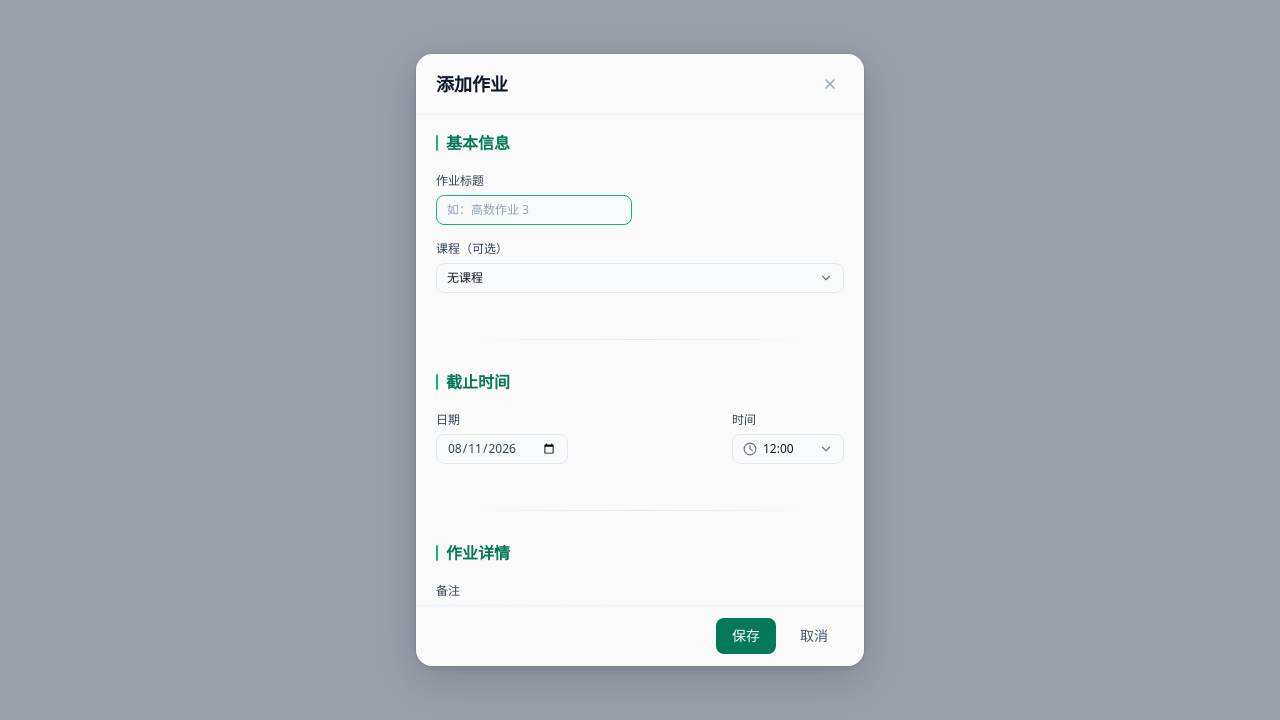
it: HomeworkFormDialog 智能截止 › 选中课程且未手动修改时建议下次上课日 23:59
Click the button named "课程（可选）": (465, 278) top-left (436, 263), bottom-right (844, 293)
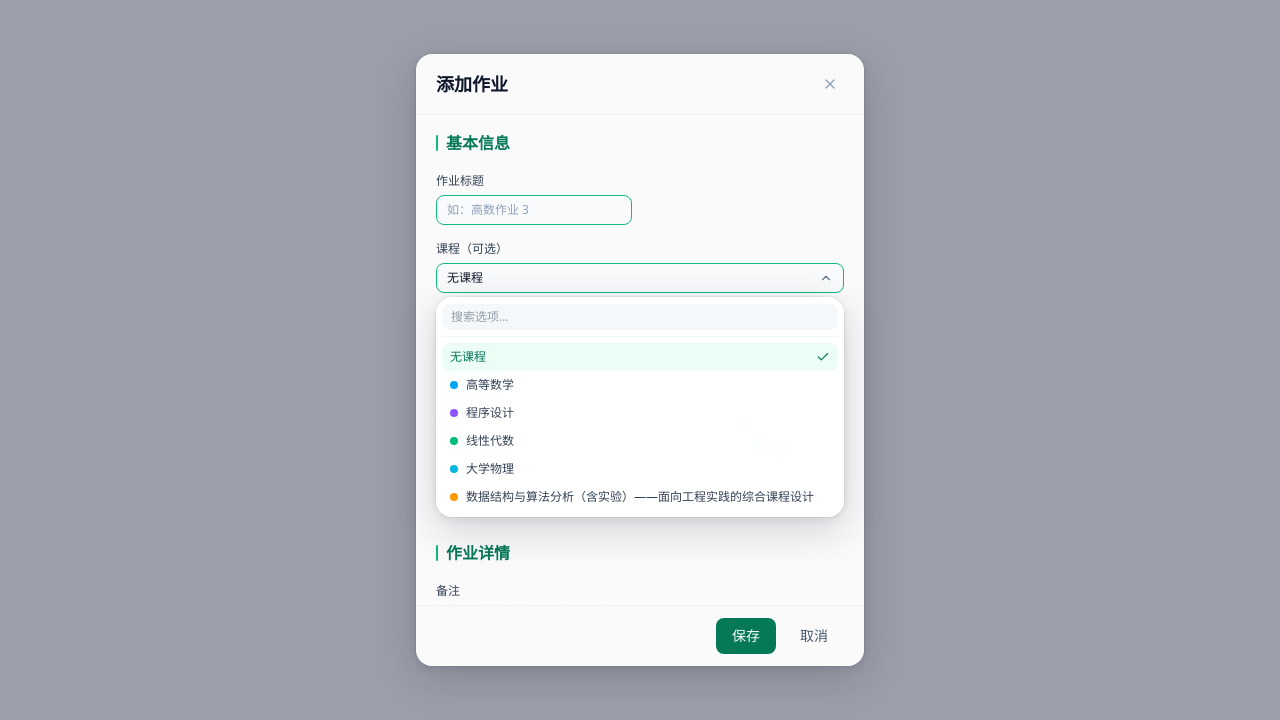
Click the option "高等数学": (490, 384) top-left (442, 371), bottom-right (838, 399)
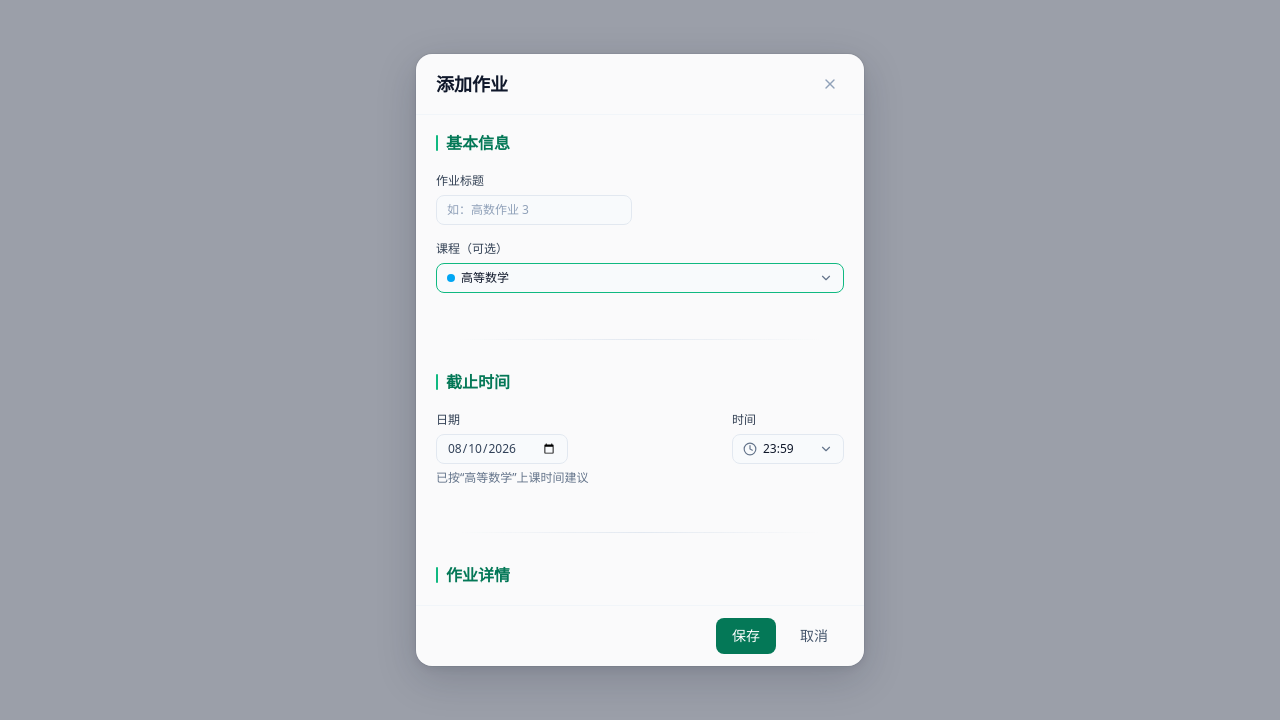
Expected: the date field labelled "日期" holds "2026-08-10"
Expected: the button named "时间" reads "23:59", top-left (732, 434), bottom-right (844, 464)
Expected: the text "已按“高等数学”上课时间建议" is shown, top-left (436, 469), bottom-right (589, 486)
In the date field labelled "日期": (502, 449) top-left (436, 434), bottom-right (568, 464), type "2026-08-20"
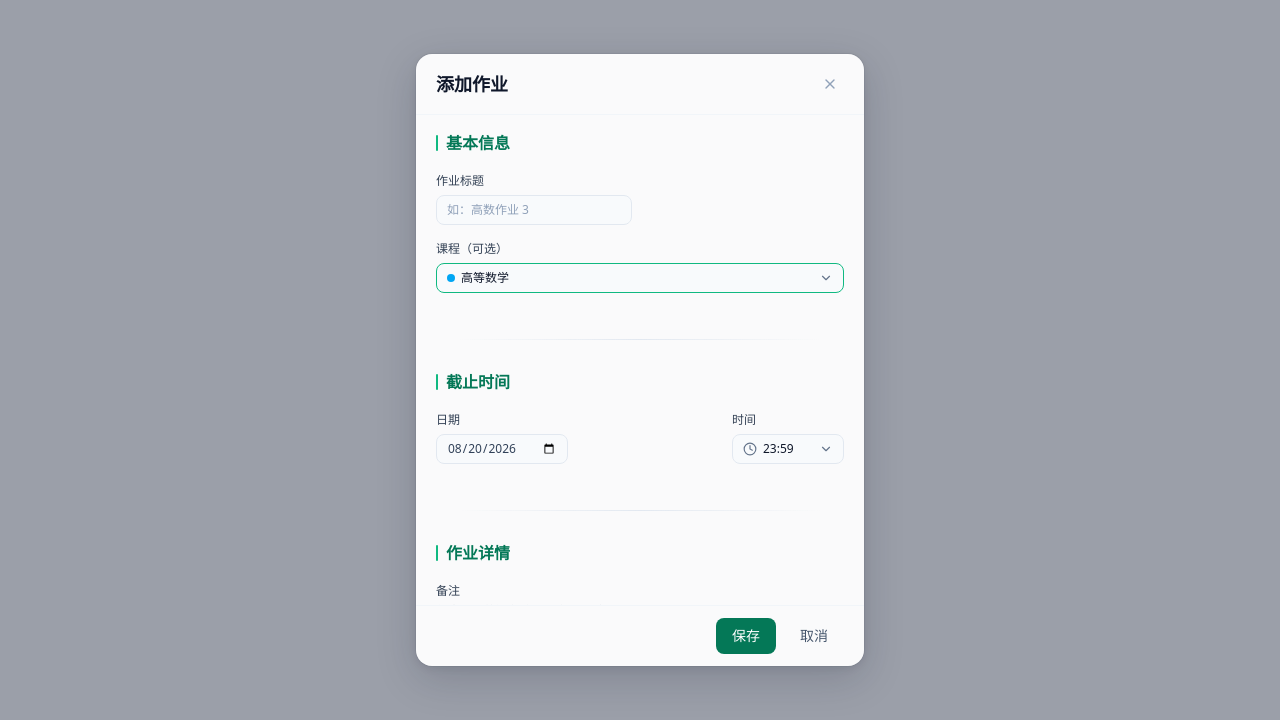
Expected: the text "已按“高等数学”上课时间建议" is gone
